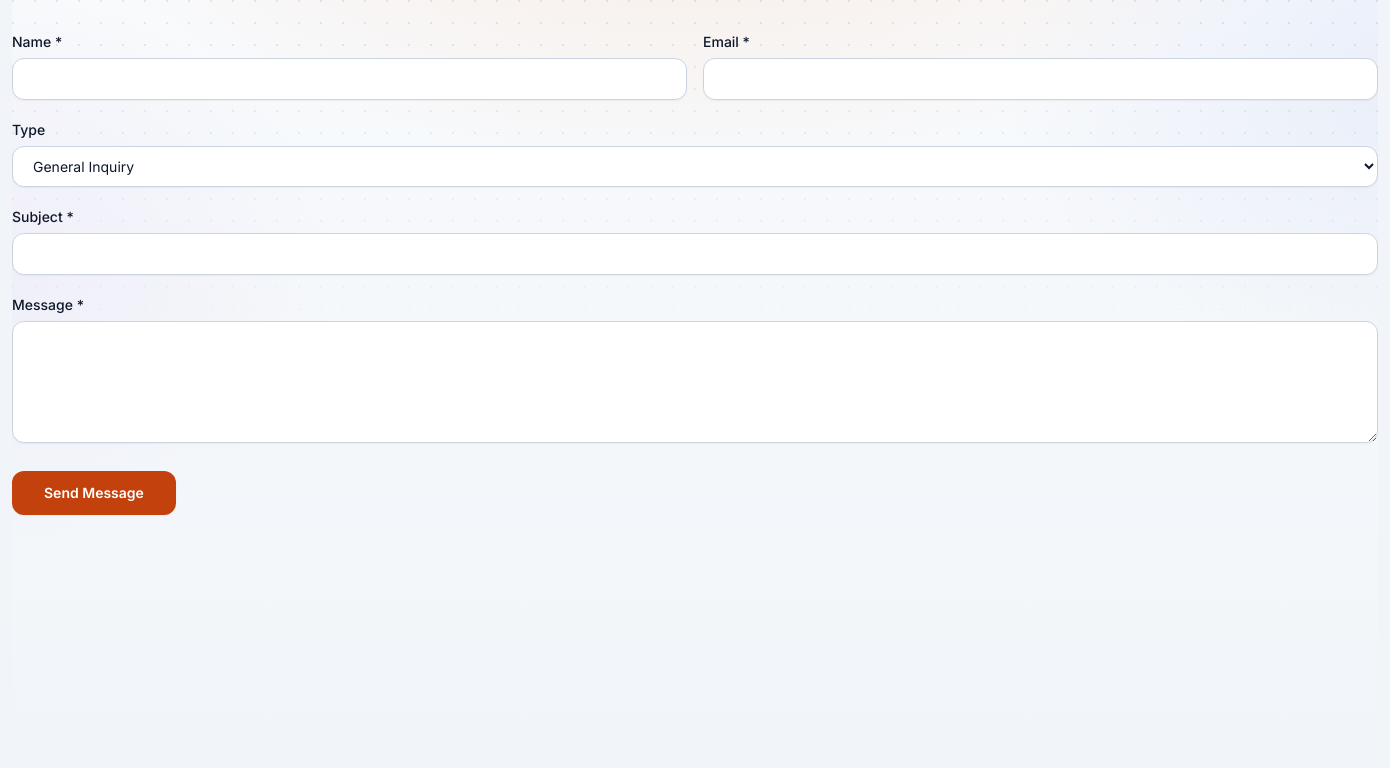
Scenario: ContactForm › shows error on failed submission
Type "John" into the field labelled "Name *" at (350, 79), box [12, 58, 687, 100]
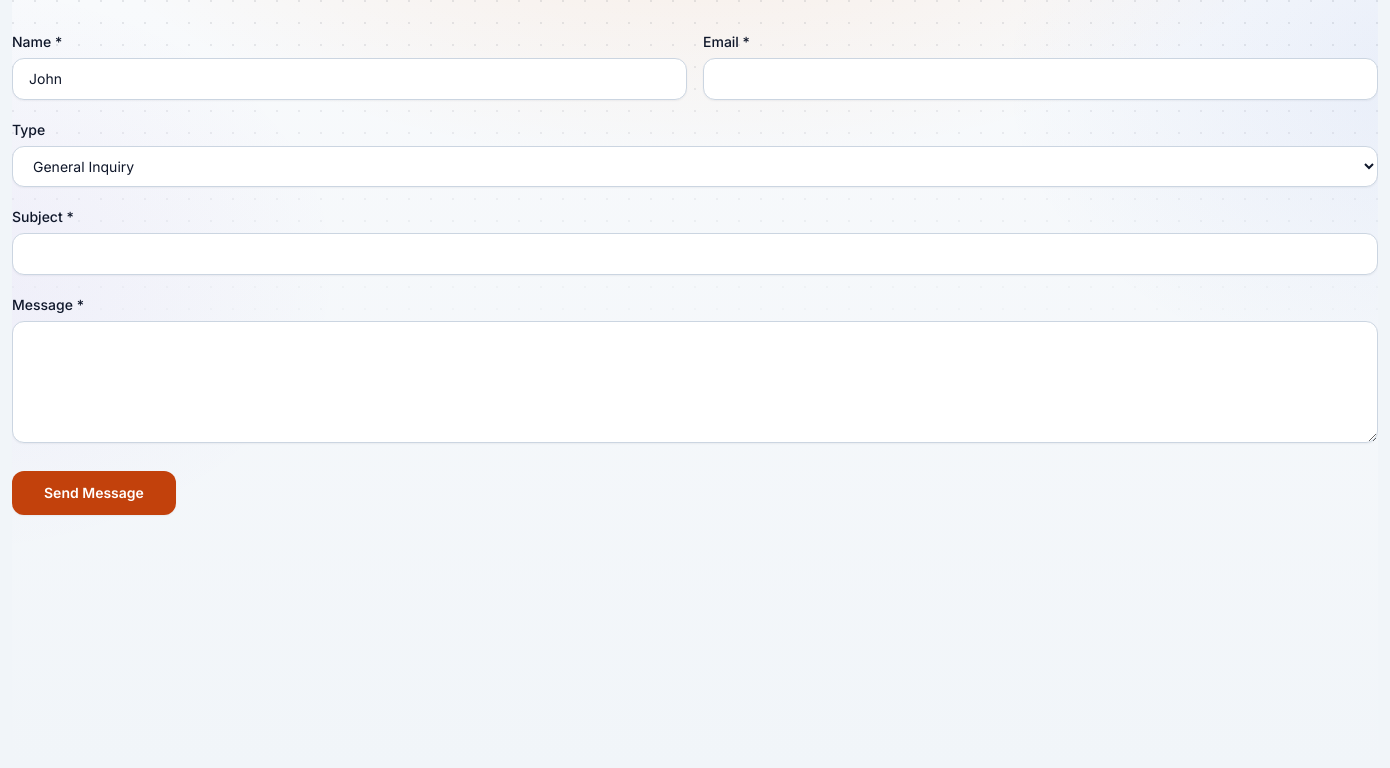
Type "john@test.com" into the field labelled "Email *" at (1040, 79), box [703, 58, 1378, 100]
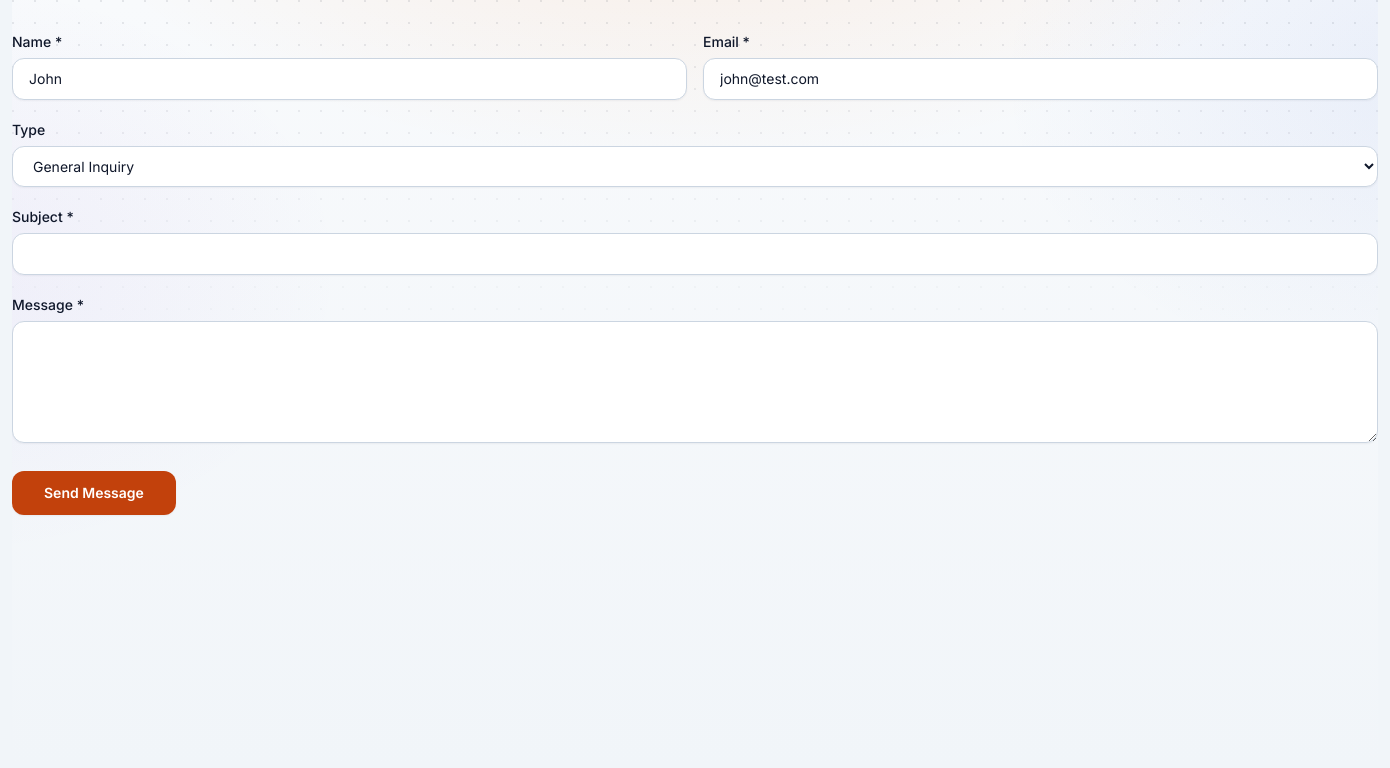
Type "Subject" into the field labelled "Subject *" at (695, 254), box [12, 233, 1378, 275]
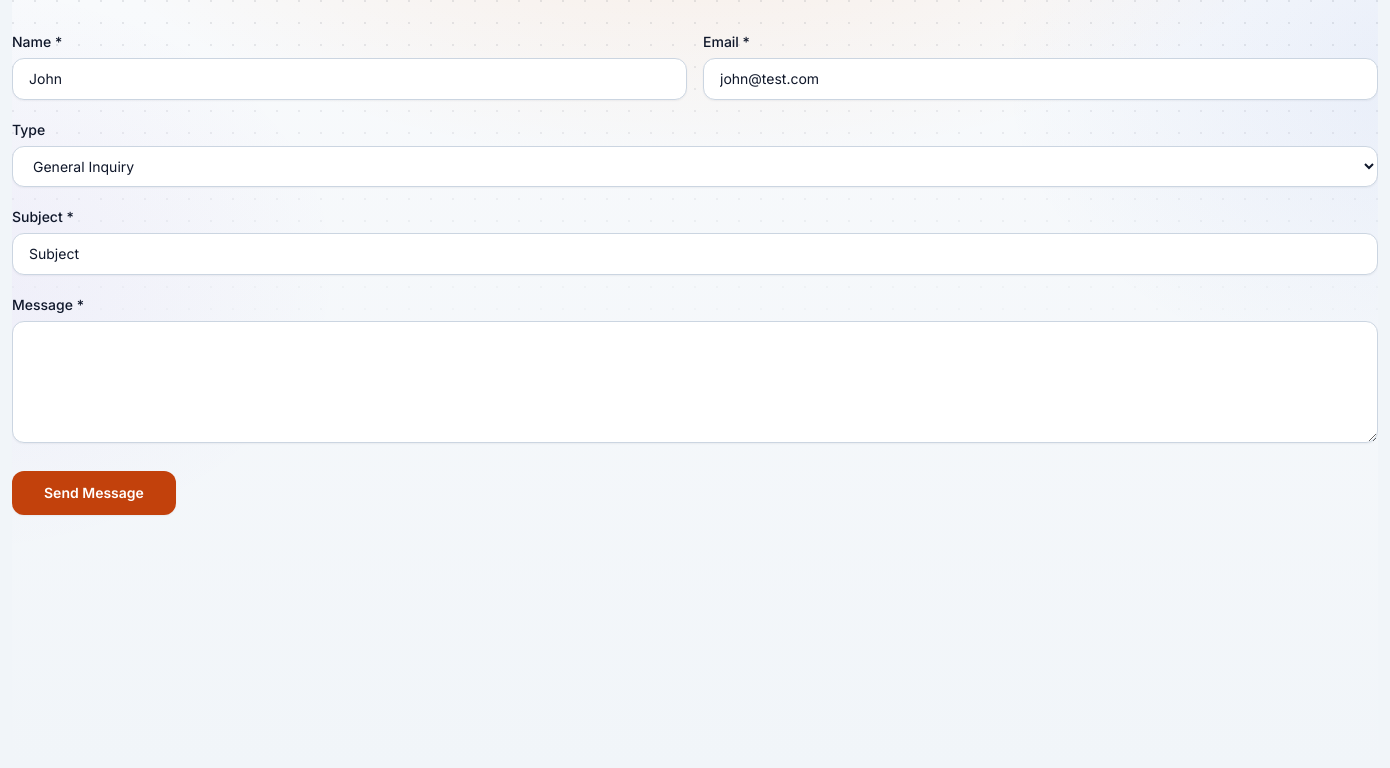
Type "Test message" into the text box labelled "Message *" at (695, 382), box [12, 321, 1378, 443]
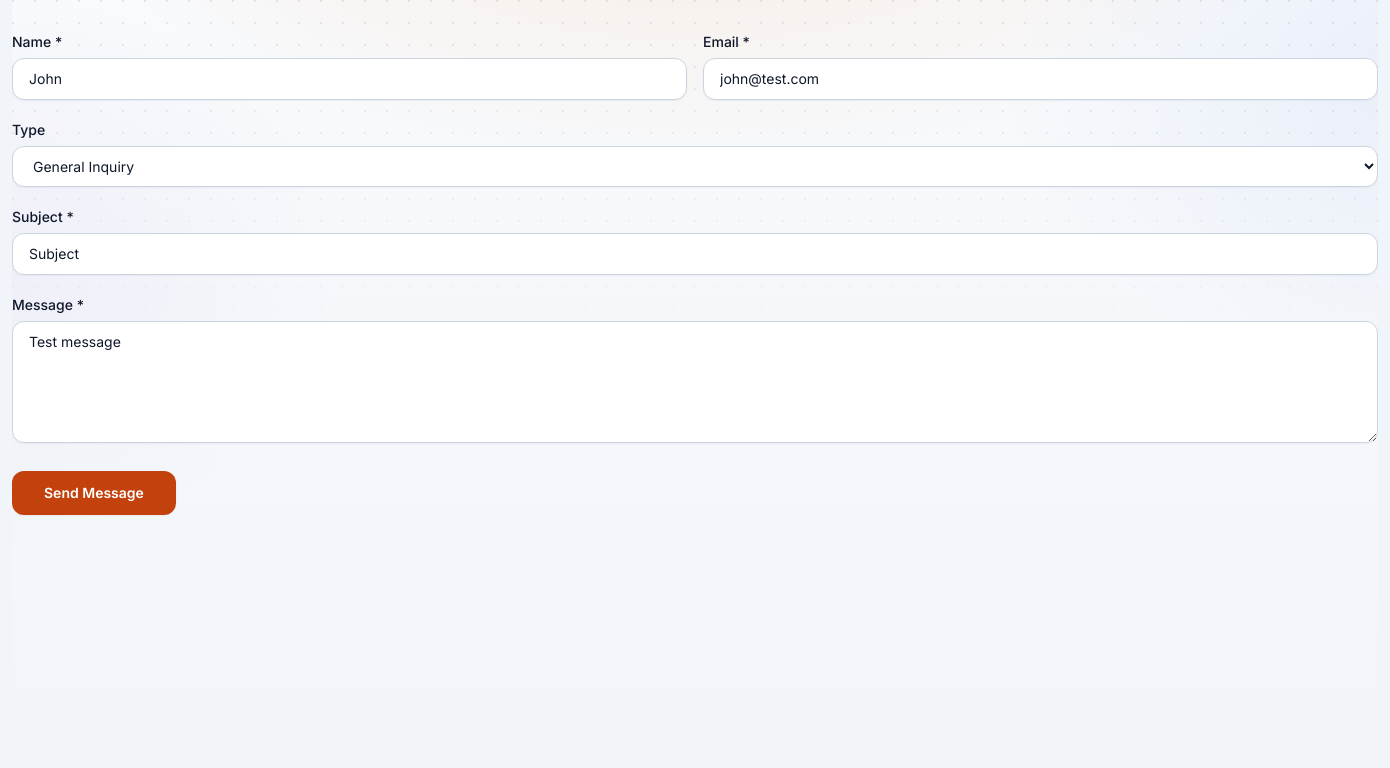
Submit the form
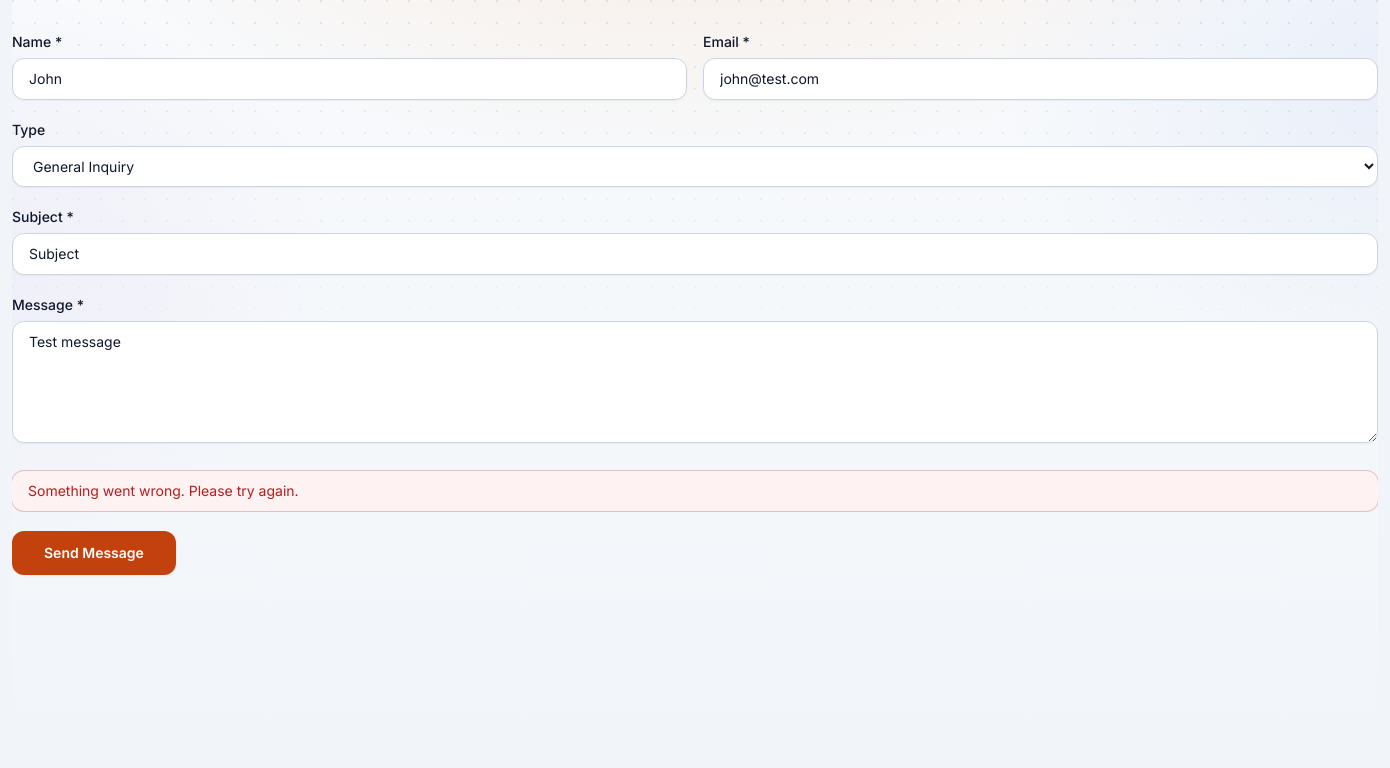
Expected: the text "Something went wrong" is shown, [28, 482, 299, 499]
